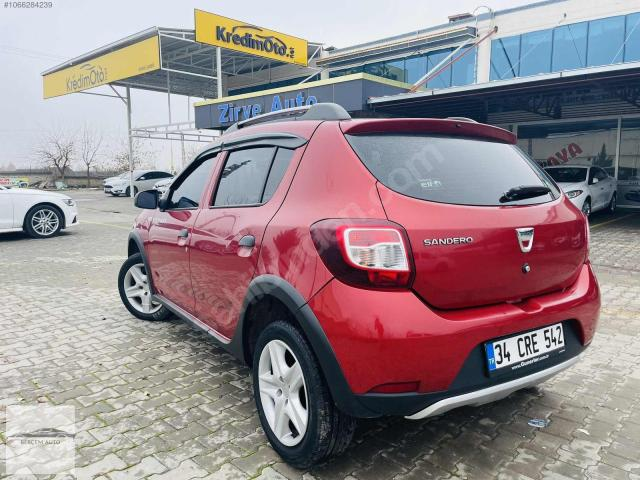plaka: (486, 323, 565, 370)
